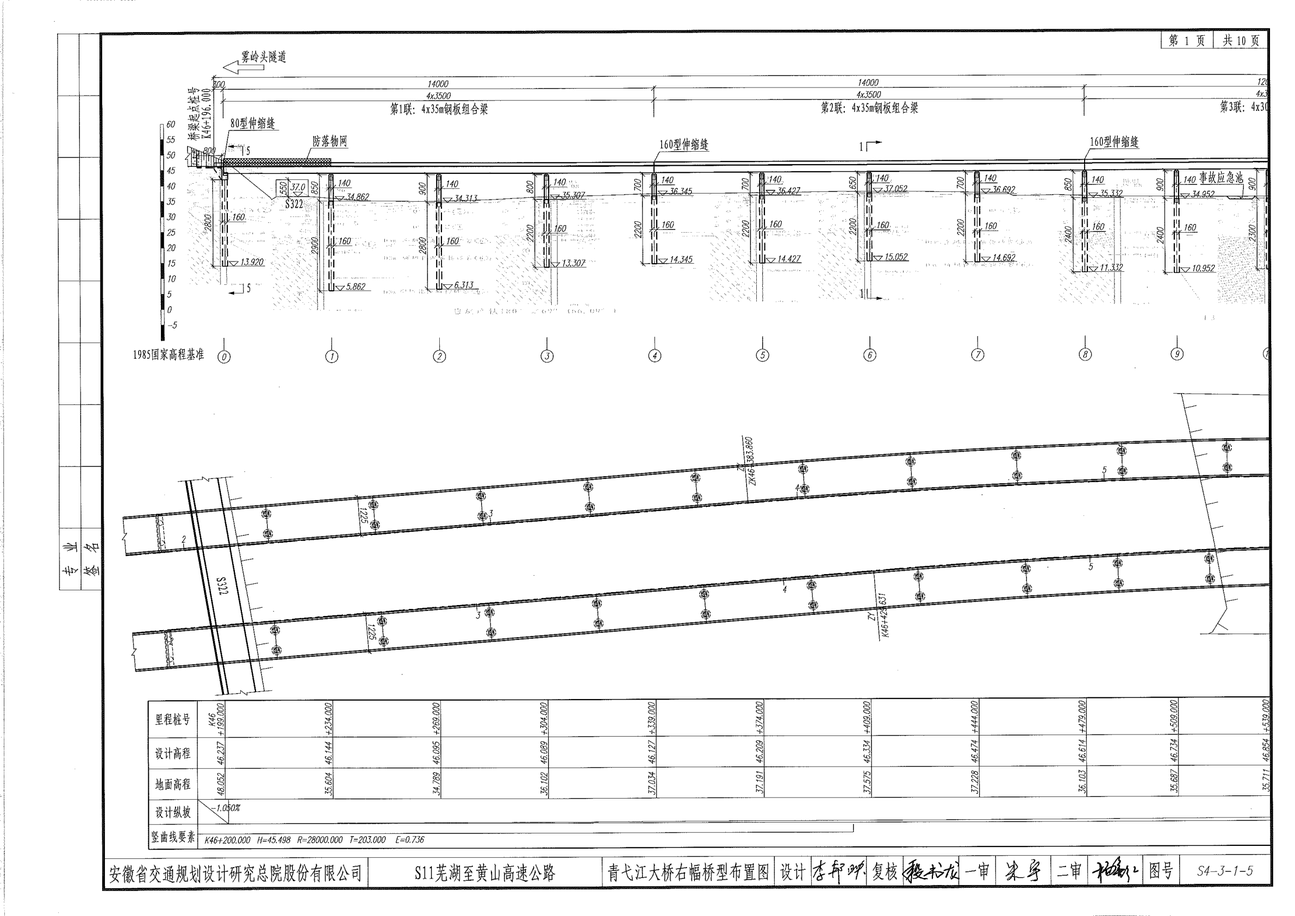A: (115, 45, 1282, 375)
